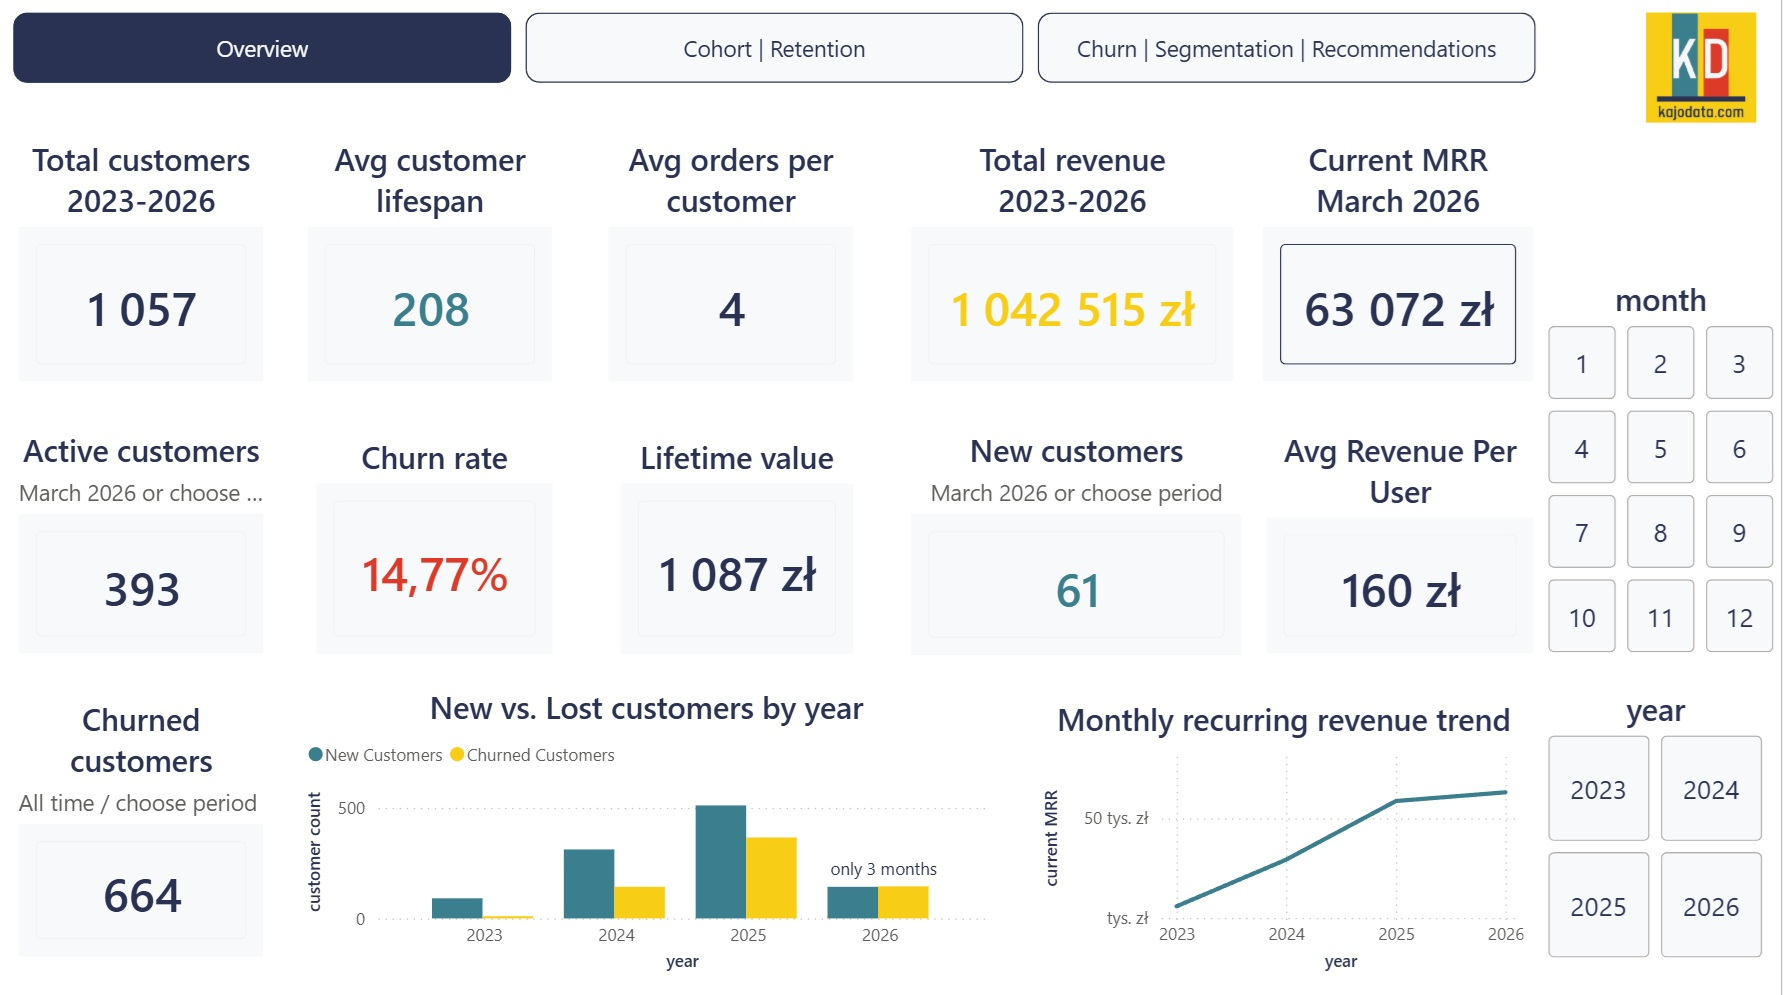

Layout of this report page (visuals, bound fields, positions):
{"tool":"powerbi","page":{"name":"Overview","canvas":[1280,720],"ordinal":0},"visuals":[{"type":"pageNavigator","box":[23.8,17.8,1083.6,50.5],"z":0},{"type":"cardVisual","title":"Total revenue 2023-2026","fields":{"Data":["Sale.Total Revenue"]},"box":[657,107,239.3,178.4],"z":1000},{"type":"cardVisual","title":"Current MRR March 2026","fields":{"Data":["Sale.Current MRR"]},"box":[906.7,107,202.2,178.4],"z":2000},{"type":"cardVisual","title":"Avg Revenue Per User","fields":{"Data":["Sale.ARPU"]},"box":[909.2,313.4,200.2,165.4],"z":3000},{"type":"advancedSlicerVisual","fields":{"Values":["Calendar.year"]},"box":[1109.4,497.5,162.9,197.8],"z":4000},{"type":"advancedSlicerVisual","fields":{"Values":["Calendar.month"]},"box":[1109.4,206.5,170.4,272.4],"z":5000},{"type":"cardVisual","title":"Total customers 2023-2026","fields":{"Data":["Sale.Total Customers"]},"box":[22.3,107,184.3,178.4],"z":6000},{"type":"cardVisual","title":"Avg customer lifespan","fields":{"Data":["Sale.Avg Customer Lifespan"]},"box":[227.4,107,184.3,178.4],"z":7000},{"type":"cardVisual","title":"Avg orders per customer","fields":{"Data":["Sale.Avg Orders per Customer"]},"box":[441.5,107,184.3,178.4],"z":8000},{"type":"cardVisual","title":"Active customers","fields":{"Data":["Sale.Active Customers"]},"box":[22.3,313.6,184.3,165],"z":9000},{"type":"cardVisual","title":"Churn rate","fields":{"Data":["Sale.Churn Rate"]},"box":[233.4,318.1,178.4,160.5],"z":10000},{"type":"cardVisual","title":"Lifetime value","fields":{"Data":["Sale.LTV"]},"box":[450.4,318.1,175.4,160.5],"z":11000},{"type":"cardVisual","title":"Churned customers","fields":{"Data":["Sale.Churned Customers"]},"box":[22.3,505.4,184.3,188.8],"z":12000},{"type":"cardVisual","title":"New customers","fields":{"Data":["Sale.New Customers"]},"box":[656.7,313.4,245,165.4],"z":13000},{"type":"clusteredColumnChart","title":"New vs. Lost customers by year","fields":{"Y":["Sale.New Customers","Sale.Churned Customers"],"Category":["Calendar.year"]},"box":[227.4,496.5,492,208.1],"z":14000},{"type":"image","box":[1184.1,17.4,78.4,78.4],"z":15000},{"type":"lineChart","title":"Monthly recurring revenue trend","fields":{"Category":["Calendar.year_month.Odmiana.Hierarchia dat.Rok","Calendar.year_month.Odmiana.Hierarchia dat.Kwartał","Calendar.year_month.Odmiana.Hierarchia dat.Miesiąc","Calendar.year_month.Odmiana.Hierarchia dat.Dzień"],"Y":["Sale.Current MRR"]},"box":[751.2,505,350.7,199],"z":16000},{"type":"textbox","box":[599.5,608.2,85.8,41],"z":17000}]}

Visuals, with their boxes in screenshot pixels (x1, y1, x2, y2), scaled from the page's 1280x720 canvas onto the 1785x995 screenshot:
pageNavigator: box(33, 25, 1544, 94)
"Total revenue 2023-2026" cardVisual: box(916, 148, 1250, 394)
"Current MRR March 2026" cardVisual: box(1264, 148, 1546, 394)
"Avg Revenue Per User" cardVisual: box(1268, 433, 1547, 662)
advancedSlicerVisual - Calendar.year: box(1547, 688, 1774, 961)
advancedSlicerVisual - Calendar.month: box(1547, 285, 1784, 662)
"Total customers 2023-2026" cardVisual: box(31, 148, 288, 394)
"Avg customer lifespan" cardVisual: box(317, 148, 574, 394)
"Avg orders per customer" cardVisual: box(616, 148, 873, 394)
"Active customers" cardVisual: box(31, 433, 288, 661)
"Churn rate" cardVisual: box(325, 440, 574, 661)
"Lifetime value" cardVisual: box(628, 440, 873, 661)
"Churned customers" cardVisual: box(31, 698, 288, 959)
"New customers" cardVisual: box(916, 433, 1257, 662)
"New vs. Lost customers by year" clusteredColumnChart: box(317, 686, 1003, 974)
image: box(1651, 24, 1761, 132)
"Monthly recurring revenue trend" lineChart: box(1048, 698, 1537, 973)
textbox: box(836, 840, 956, 897)
